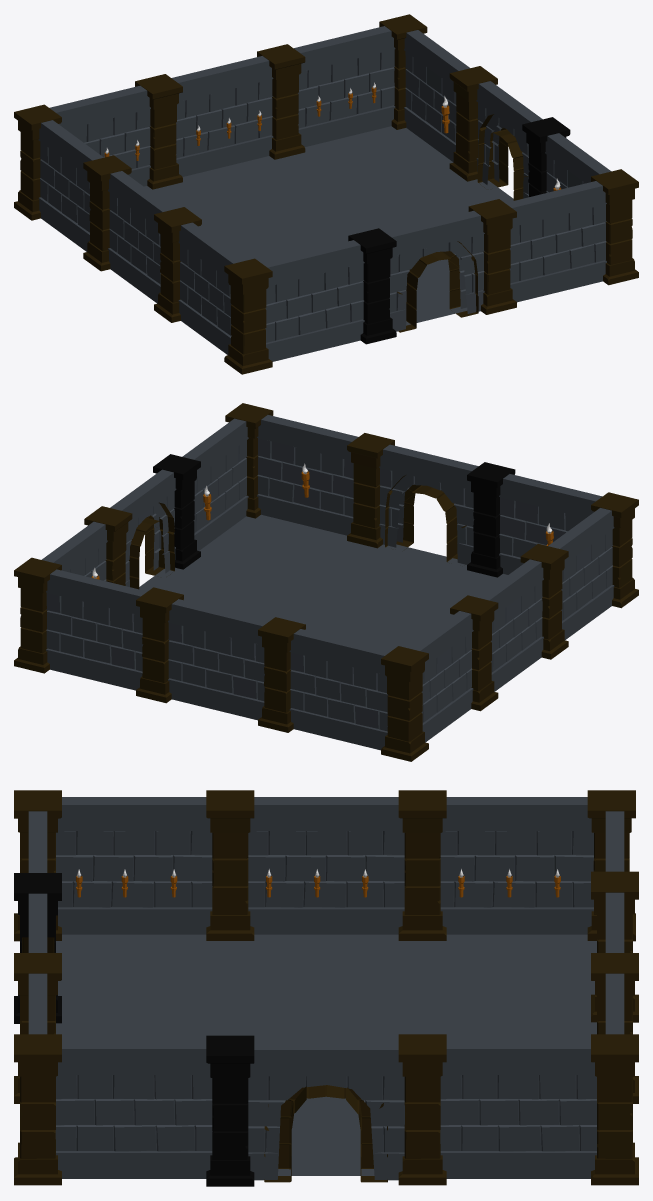
Rendered from escena_puzzle.fbx.
3 renders of one model, top to bottom at view 1: azimuth 30°, elevation 25°; view 2: azimuth 150°, elevation 25°; view 3: azimuth 270°, elevation 25°, orthographic. The views are drawn at different scales.
Parts seen in each view (by area): view 1: wall, wall.002, wall.008, wall.003, doorway, wall.009, wall.007, wall.004, wall.005, wall.006, Plane.004, Plane.005 (+7 smaller); view 2: wall.009, wall.008, wall.003, wall.002, doorway, wall.006, wall, Plane.001, wall.007, wall.005, doorway.002, Plane.003 (+6 smaller); view 3: wall.001, wall.004, wall.007, wall.005, wall.006, doorway.002, Plane.006, Plane.007, Plane.008, wall.003, Plane, Plane.002 (+7 smaller).
Part boxes in pixels (bbox=[...]): wall: bbox=[224, 240, 364, 374]; wall.002: bbox=[468, 181, 606, 314]; wall.008: bbox=[171, 44, 305, 176]; wall.003: bbox=[294, 14, 427, 146]; doorway: bbox=[348, 210, 484, 344]; wall.009: bbox=[49, 74, 182, 189]; wall.007: bbox=[83, 155, 174, 303]; wall.004: bbox=[404, 30, 497, 181]; wall.005: bbox=[154, 207, 244, 354]; wall.006: bbox=[14, 104, 103, 251]; Plane.004: bbox=[170, 155, 353, 230]; Plane.005: bbox=[292, 126, 457, 200]; wall.009: bbox=[258, 617, 390, 750]; wall.008: bbox=[136, 587, 268, 720]; wall.003: bbox=[14, 557, 147, 690]; wall.002: bbox=[257, 415, 394, 548]; doorway: bbox=[379, 444, 515, 577]; wall.006: bbox=[381, 611, 473, 761]; wall: bbox=[499, 474, 638, 608]; Plane.001: bbox=[299, 544, 481, 618]; wall.007: bbox=[450, 559, 543, 711]; wall.005: bbox=[520, 508, 614, 659]; doorway.002: bbox=[110, 454, 200, 589]; Plane.003: bbox=[192, 514, 359, 589]; wall.001: bbox=[14, 1034, 212, 1185]; wall.004: bbox=[398, 1034, 596, 1185]; wall.007: bbox=[248, 790, 446, 940]; wall.005: bbox=[56, 790, 254, 940]; wall.006: bbox=[440, 790, 635, 941]; doorway.002: bbox=[206, 1035, 404, 1186]; Plane.006: bbox=[230, 934, 422, 1013]; Plane.007: bbox=[56, 934, 230, 1013]; Plane.008: bbox=[422, 934, 596, 1013]; wall.003: bbox=[591, 973, 638, 1185]; Plane: bbox=[230, 1013, 422, 1042]; Plane.002: bbox=[278, 1096, 374, 1175].
Bounding box in the file's own units: 1306 × 300 × 1300.
